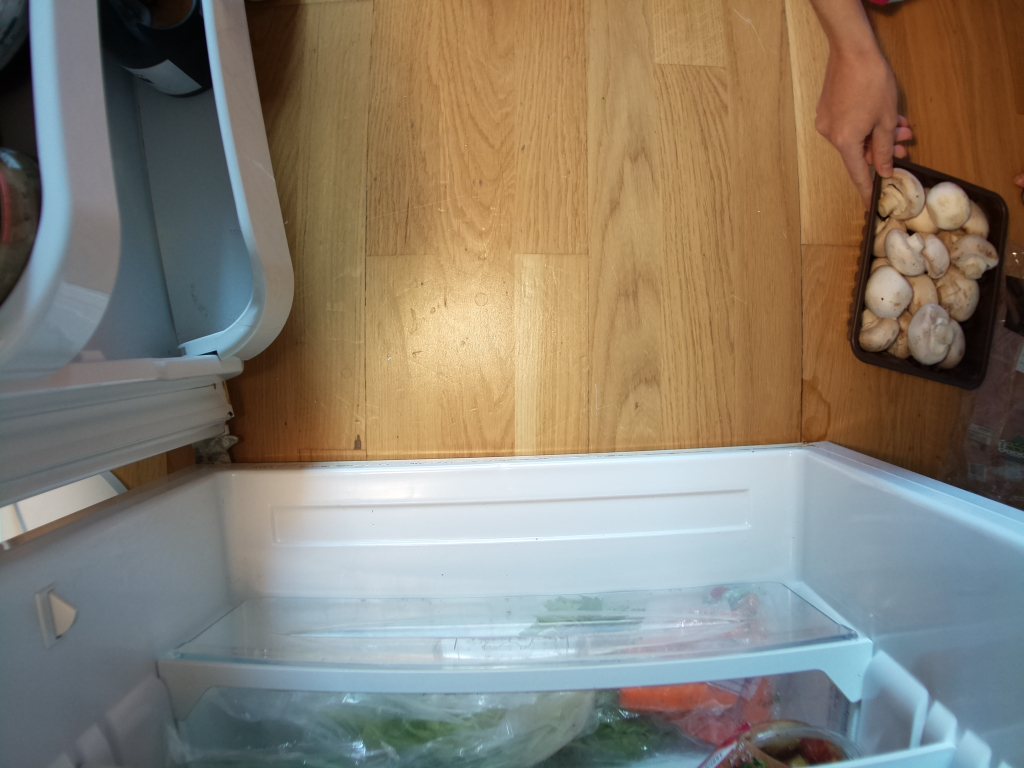mushrooms: (859, 139, 1006, 397)
